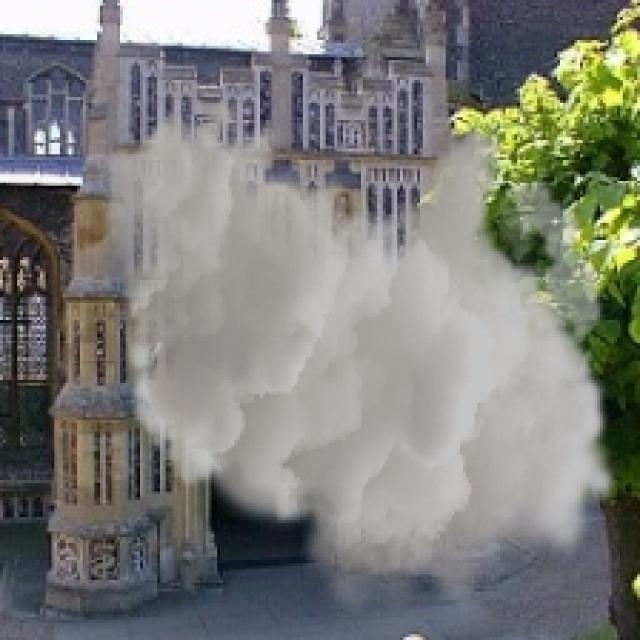smoke: (100, 91, 620, 626)
